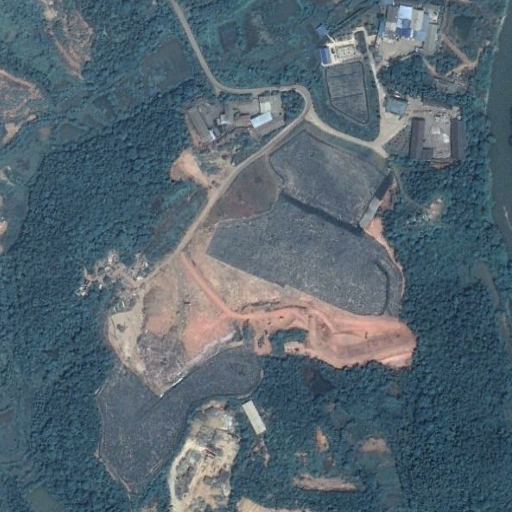lf: (91, 122, 411, 489)
